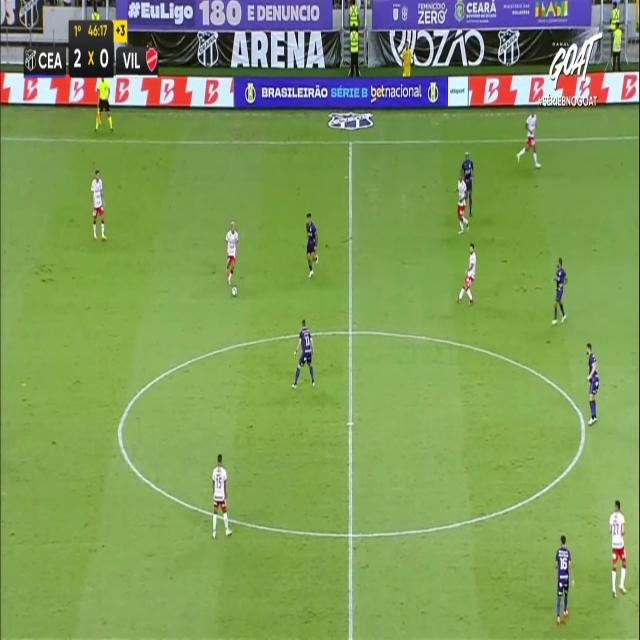ball: (232, 285, 238, 298)
player: (554, 533, 574, 624), (211, 452, 232, 538), (609, 499, 627, 597), (291, 319, 315, 389), (515, 111, 541, 168), (456, 242, 476, 304), (585, 341, 599, 425), (91, 169, 107, 241), (551, 256, 567, 324), (225, 221, 239, 286), (461, 150, 474, 217), (305, 212, 318, 278), (457, 168, 469, 234)
referee: (94, 76, 113, 132)
